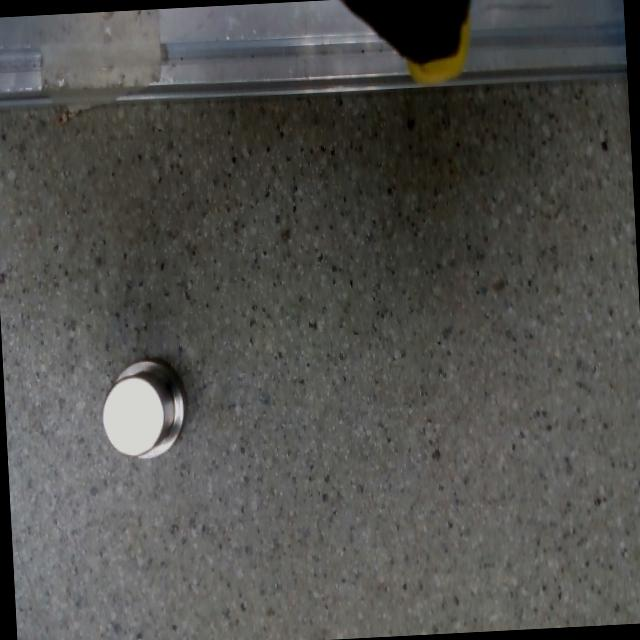sensor: (98, 358, 190, 463)
